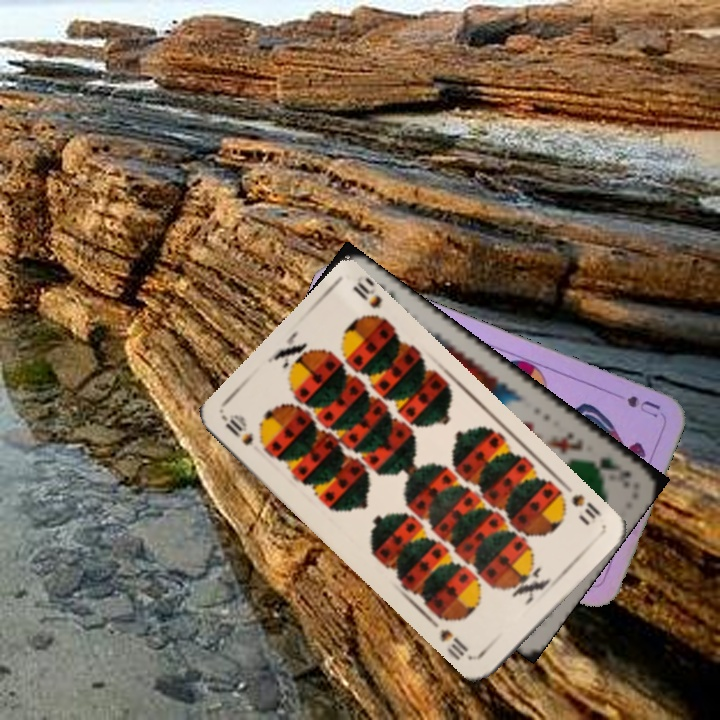GK: (583, 452, 635, 490)
S10: (553, 479, 603, 522), (220, 410, 256, 449)
SU: (622, 391, 663, 420)
